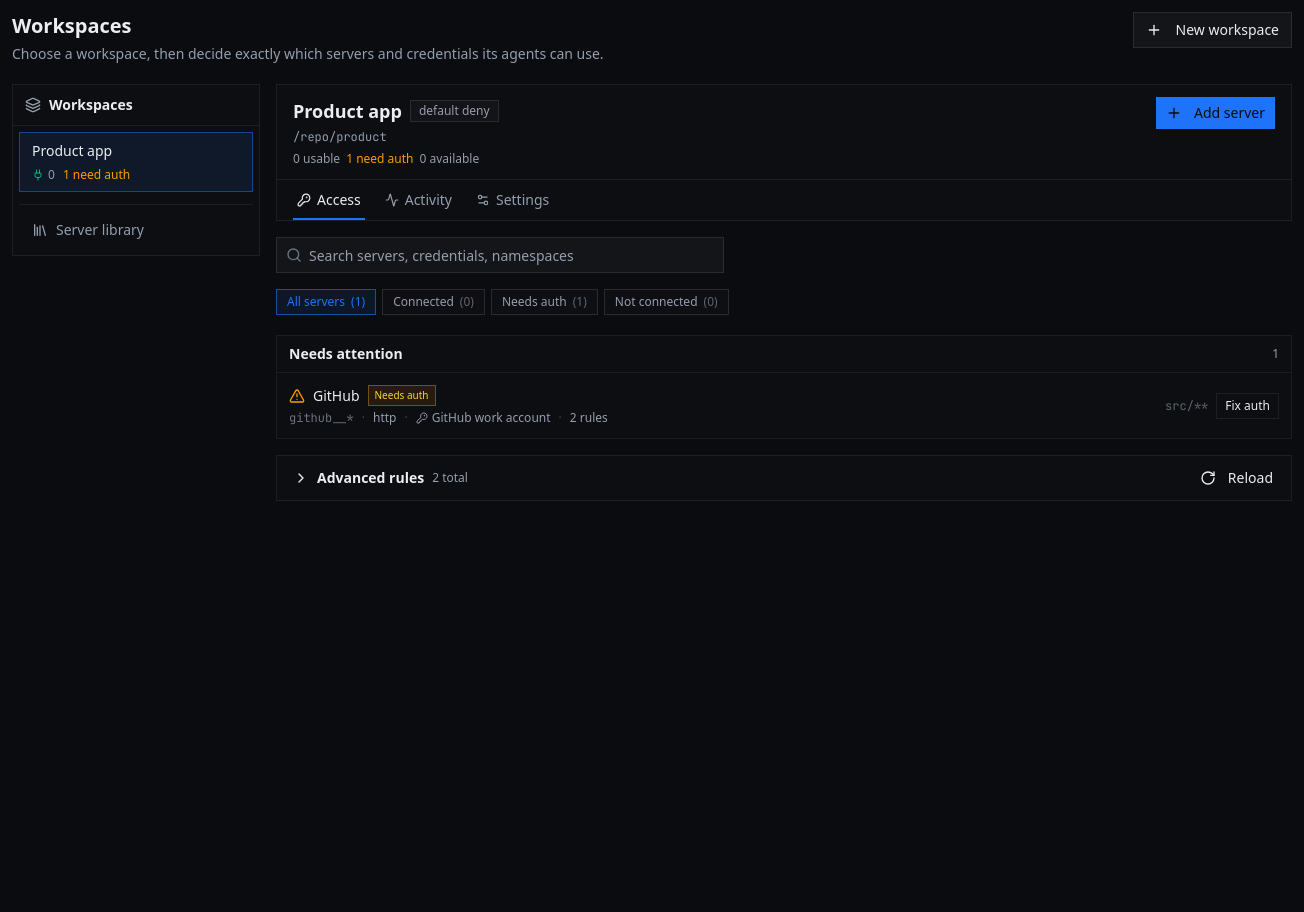
Test: unified workspace console › reveals every raw rule in the advanced access panel
The width and height of the screenshot is (1304, 912).
Expected: the heading "Product app" is shown, 293,97 -> 402,125
Click the button "Advanced rules 2 total" at (371, 478), box 277,456 -> 1182,500
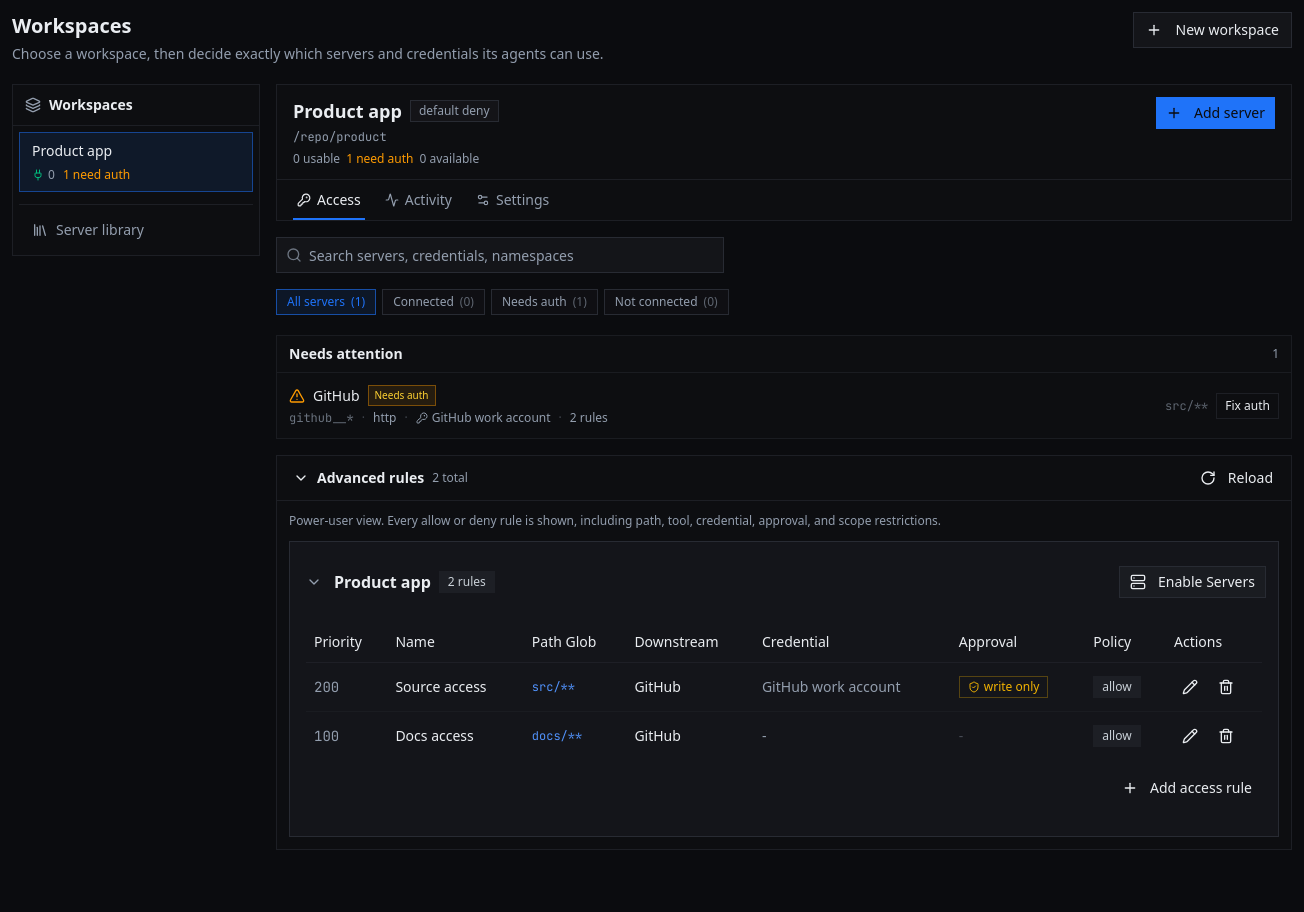
Expected: the text "Source access" is shown, 387,662 -> 524,711
Expected: the text "Docs access" is shown, 387,711 -> 524,760
